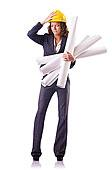helmet: (50, 10, 67, 23)
